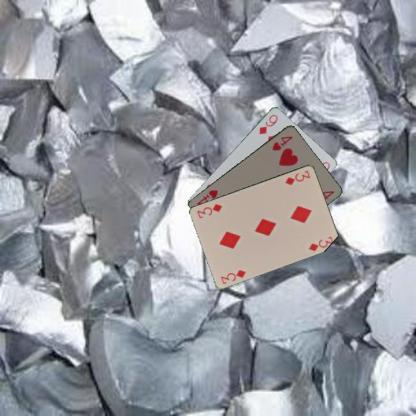3d: (218, 267, 248, 285), (282, 168, 311, 186)
4h: (269, 133, 294, 152)
9d: (257, 112, 279, 135)
